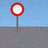sign: (11, 3, 24, 32)
